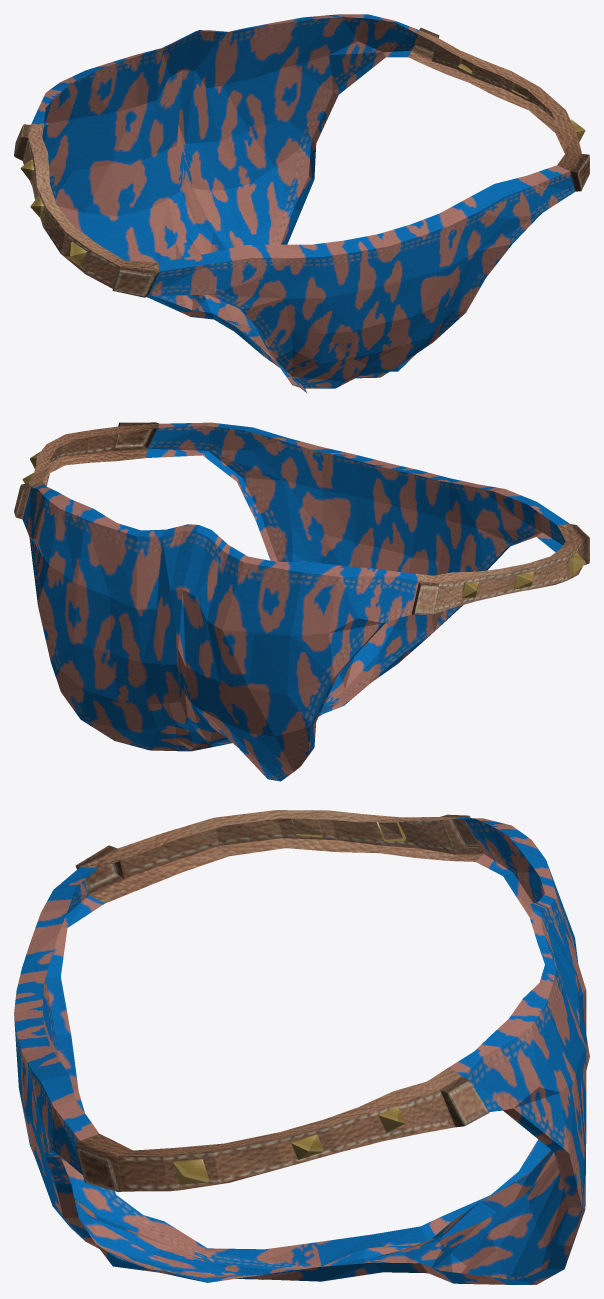
The model's file is mhw_punkduck_bandeau_bikini_slip.glb.
3 views of the same model, one above another, from view 1: azimuth 30°, elevation 25°; view 2: azimuth 150°, elevation 25°; view 3: azimuth 270°, elevation 25° (orthographic). The views are drawn at different scales.
Visible parts, largest first — view 1: mhw_punkduck_bandeau_bikini_slip; view 2: mhw_punkduck_bandeau_bikini_slip; view 3: mhw_punkduck_bandeau_bikini_slip.
Part boxes in pixels (x1=…): mhw_punkduck_bandeau_bikini_slip: x1=14, y1=14, x2=589, y2=392; mhw_punkduck_bandeau_bikini_slip: x1=14, y1=422, x2=589, y2=781; mhw_punkduck_bandeau_bikini_slip: x1=14, y1=810, x2=589, y2=1284.
Size of the model in its own units: 0.3422 by 0.1725 by 0.2419.
1 material, 1 textured.
